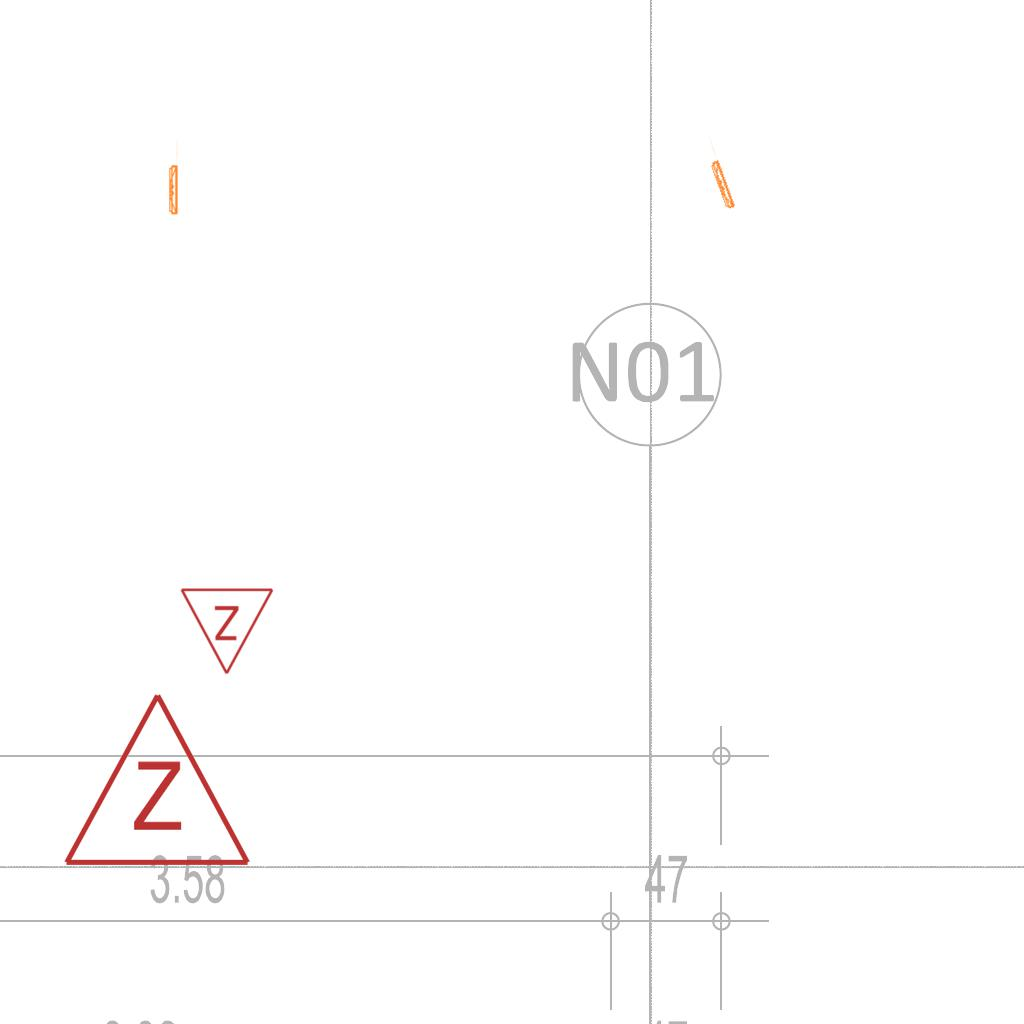Sicherheitsleuchte_Wandeinbau: (698, 134, 738, 213), (167, 138, 179, 217)
Zimmersignalleuchte: (57, 680, 253, 880), (179, 581, 277, 681)
